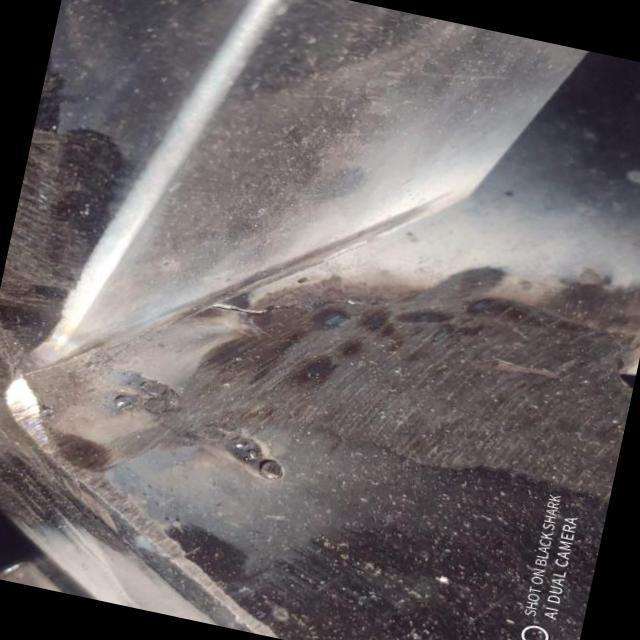defect: (204, 292, 368, 322)
